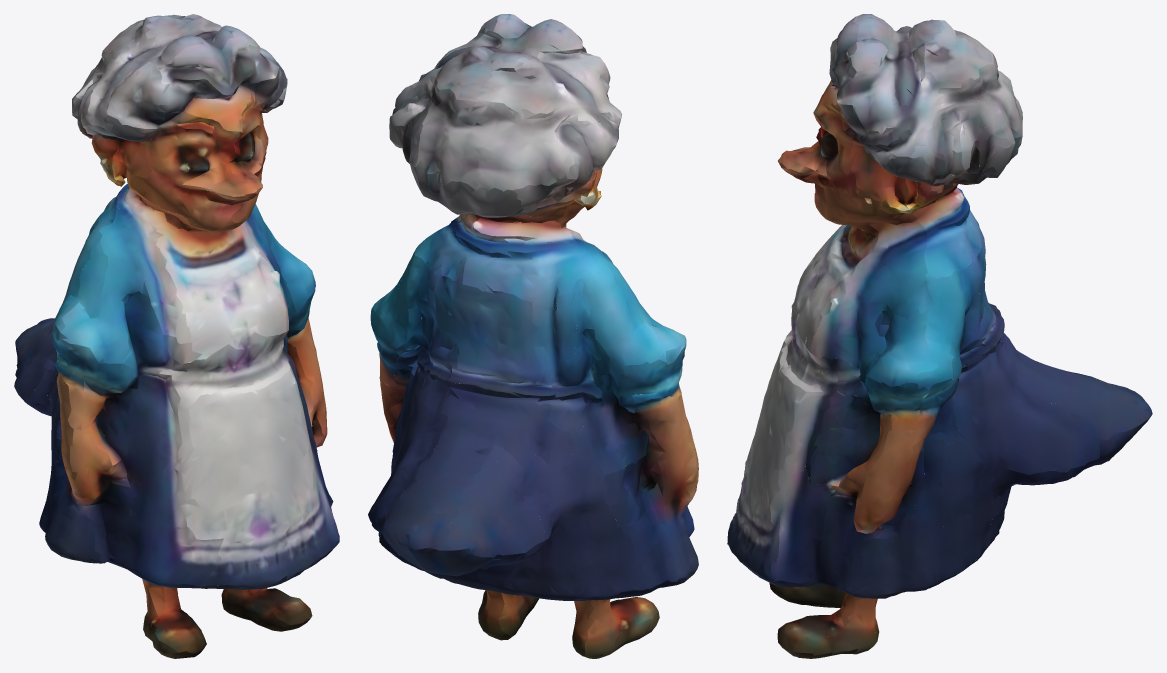
File: abuela-lod0.glb
3 views of the same model, side by side, from view 1: azimuth 30°, elevation 25°; view 2: azimuth 150°, elevation 25°; view 3: azimuth 270°, elevation 25° (orthographic). The views are drawn at different scales.
Visible parts, largest first — view 1: geometry_0; view 2: geometry_0; view 3: geometry_0.
Boxes of the visible parts, x1,y1,x2,y2 form: geometry_0: (14,14,339,658); geometry_0: (368,14,698,658); geometry_0: (727,14,1152,658).
Size of the model in its own units: 1.31 by 2.68 by 1.7.
Materials: 1 (1 with a texture image).
